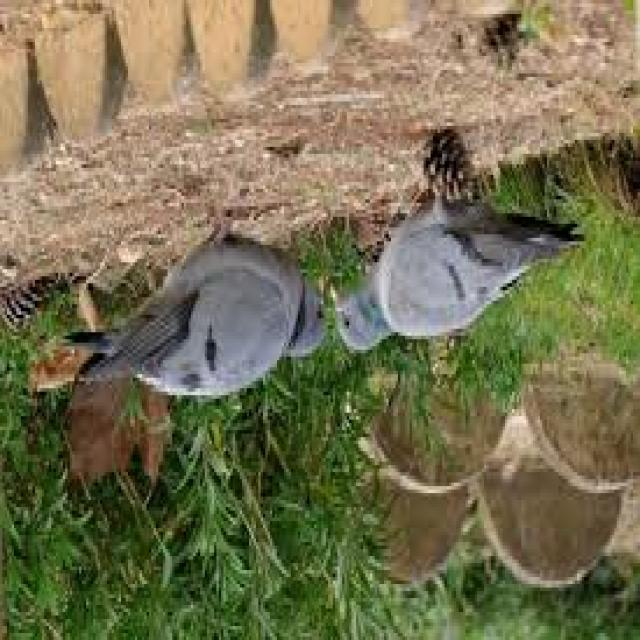pigeon: (73, 184, 324, 434)
